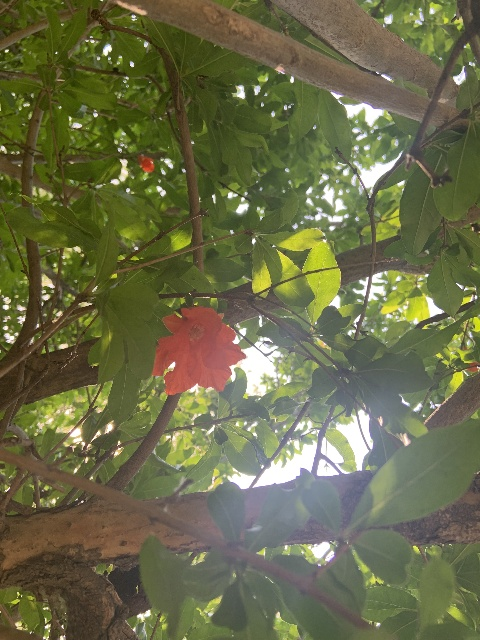flower: (153, 306, 246, 395), (137, 155, 154, 172)
